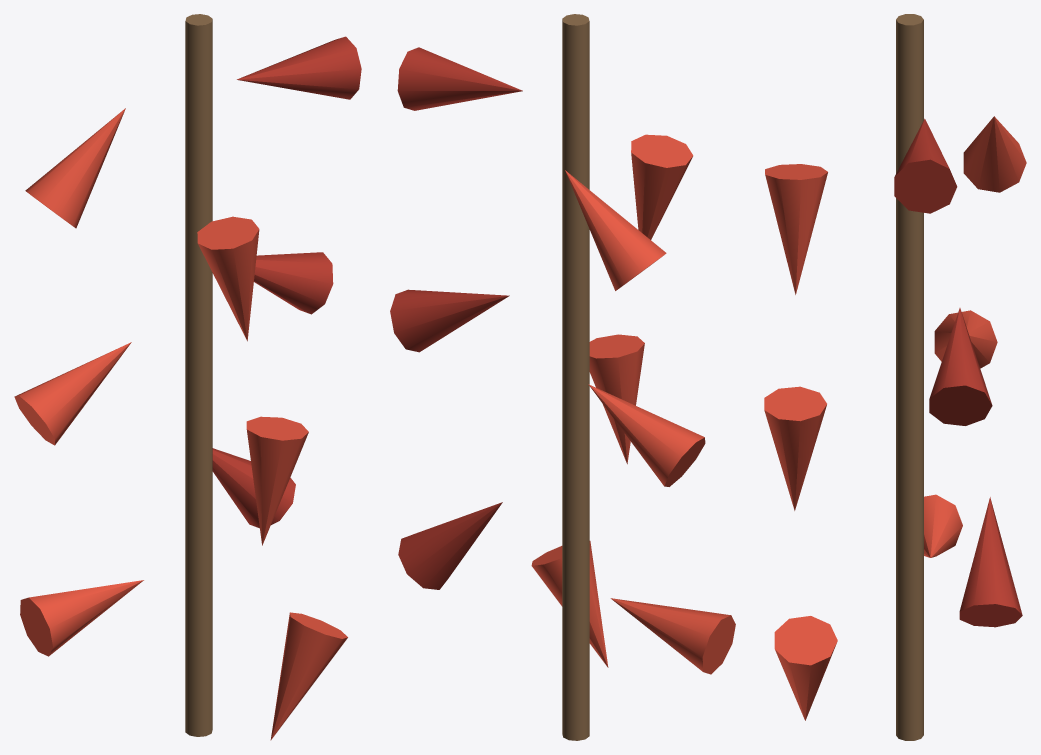
File: wok_prop_chili_string_1.glb
3 renders of one model, left to right at view 1: azimuth 30°, elevation 25°; view 2: azimuth 150°, elevation 25°; view 3: azimuth 270°, elevation 25°, orthographic.
Size of the model in its own units: 0.1573 by 0.34 by 0.113.
